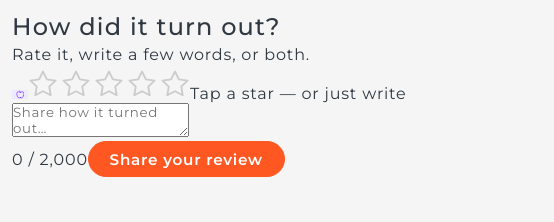
Test: ReviewComposer › submitting fewer than 5 characters shows an inline error and does not post
Type "Hi" into the text box at (100, 120), box [12,103,189,137]
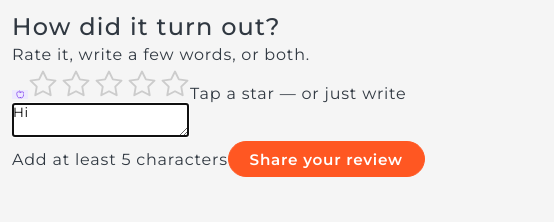
Click the button "Share your review" at (326, 159), box [228,141,425,177]
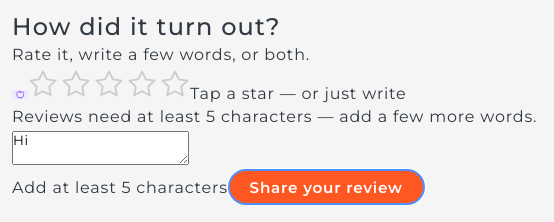
Expected: the message shows "at least 5 characters", [12,107,537,126]
